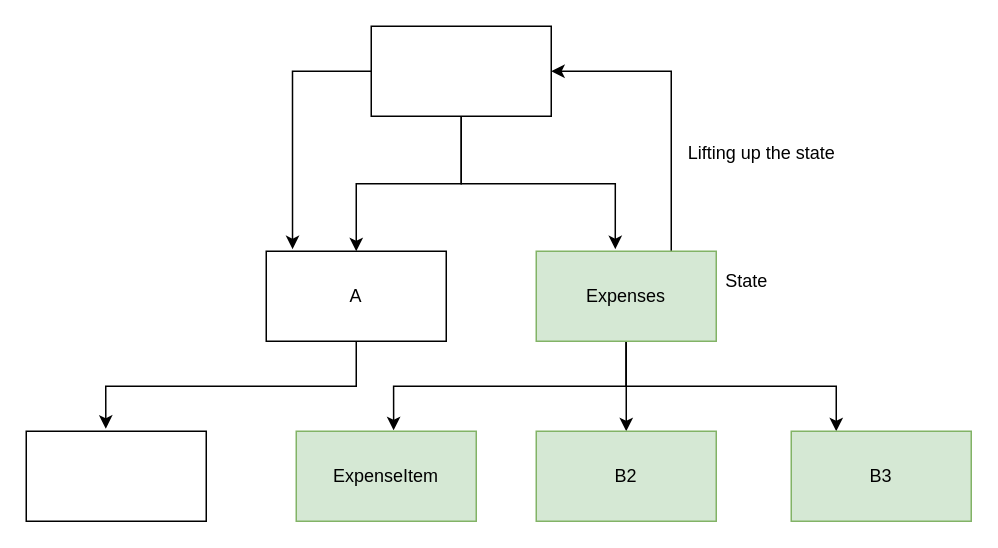
Image size: 998x548. Some labels were removed from this diagram. Here are the shapes that lost their labels. From the top down, the centre of each, then its label:
point (460, 70): Root "App" Component
point (115, 475): A1
